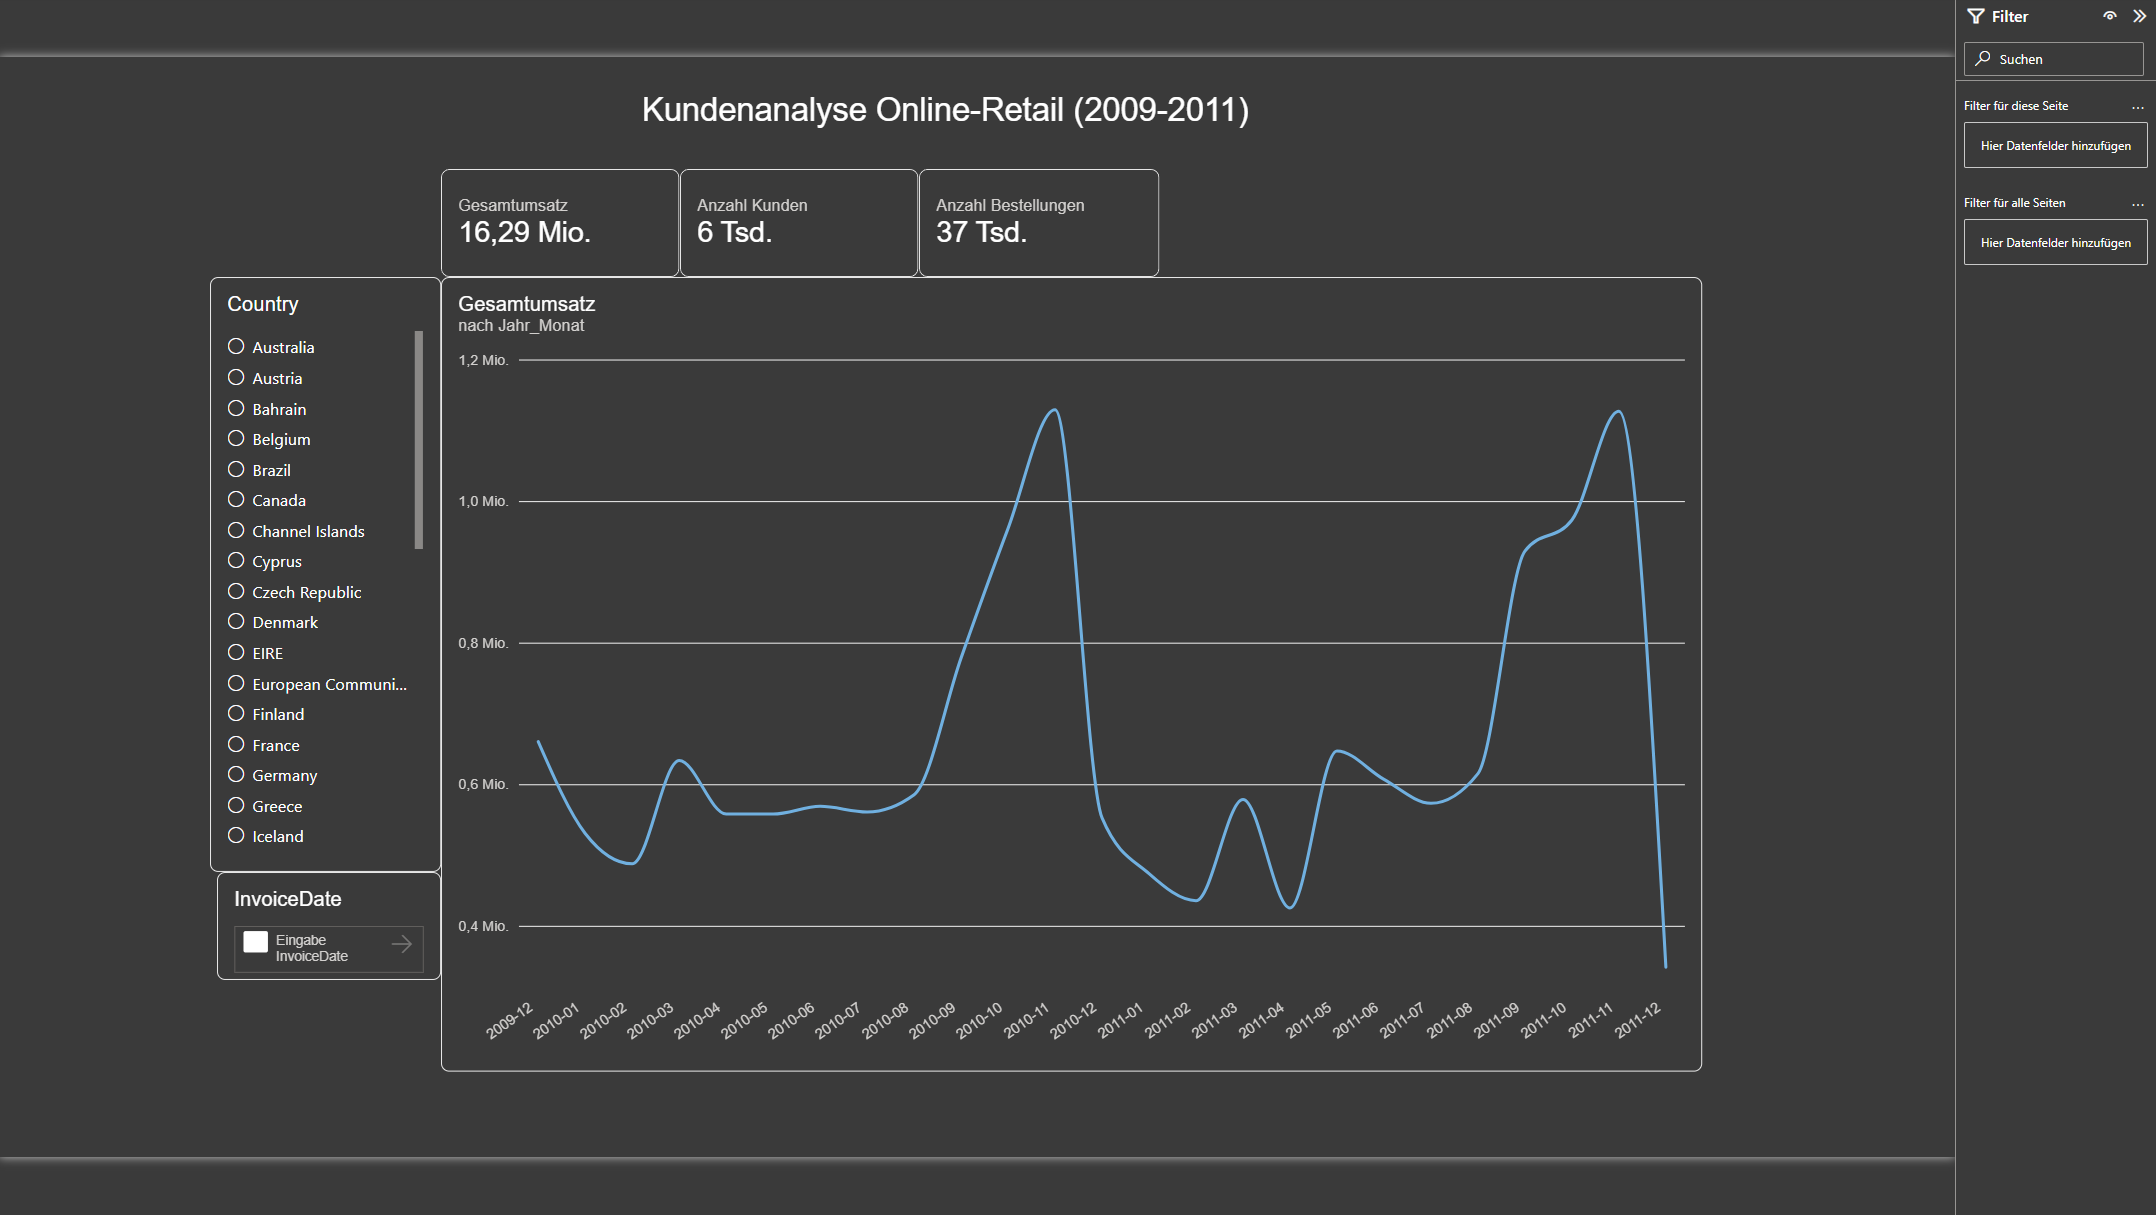

This screenshot's page, from the dashboard's own definition file:
{"tool":"powerbi","page":{"name":"Übersicht","canvas":[1920,1080],"ordinal":0},"visuals":[{"type":"cardVisual","fields":{"Data":["online_retail_clean.Anzahl Kunden"]},"box":[668.5,109.9,234.6,106],"z":0},{"type":"cardVisual","fields":{"Data":["online_retail_clean.Gesamtumsatz"]},"box":[433.9,109.9,234.6,106],"z":1000},{"type":"cardVisual","fields":{"Data":["online_retail_clean.Anzahl Bestellungen"]},"box":[903.1,109.9,236.6,106],"z":2000},{"type":"textSlicer","fields":{"Values":["online_retail_clean.InvoiceDate"]},"box":[214,800,219.9,106],"z":3000},{"type":"listSlicer","fields":{"Values":["online_retail_clean.Country"]},"box":[207.1,216,226.7,584],"z":4000},{"type":"lineChart","fields":{"Category":["online_retail_clean.Jahr_Monat"],"Y":["online_retail_clean.Gesamtumsatz"]},"box":[433.9,216,1237.8,780.4],"z":5000},{"type":"textbox","box":[631.2,33.4,656.7,48.1],"z":6000}]}

Visuals, with their boxes on the page's 1920x1080 design canvas (x1, y1, x2, y2). These are canvas units, not pixel positions in the 2156x1215 screenshot, which may show the page scaled, cropped or inside an application window:
cardVisual - online_retail_clean.Anzahl Kunden: (x1=668, y1=110, x2=903, y2=216)
cardVisual - online_retail_clean.Gesamtumsatz: (x1=434, y1=110, x2=668, y2=216)
cardVisual - online_retail_clean.Anzahl Bestellungen: (x1=903, y1=110, x2=1140, y2=216)
textSlicer - online_retail_clean.InvoiceDate: (x1=214, y1=800, x2=434, y2=906)
listSlicer - online_retail_clean.Country: (x1=207, y1=216, x2=434, y2=800)
lineChart - online_retail_clean.Jahr_Monat x online_retail_clean.Gesamtumsatz: (x1=434, y1=216, x2=1672, y2=996)
textbox: (x1=631, y1=33, x2=1288, y2=82)
